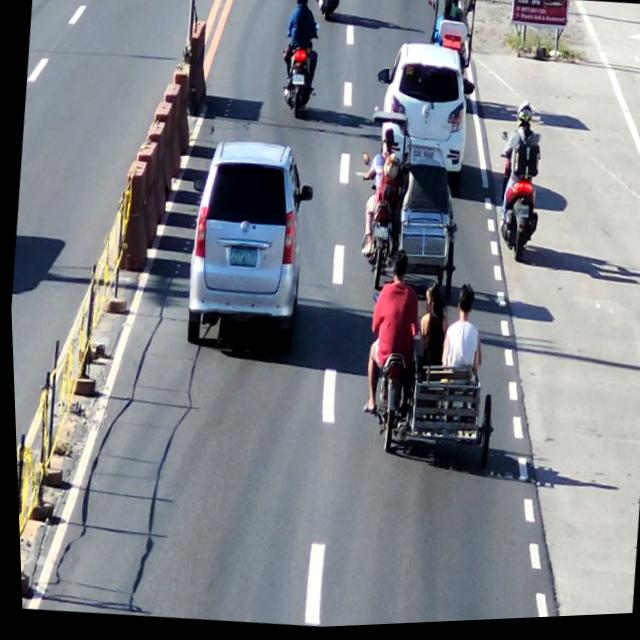Car: (175, 138, 318, 363), (367, 35, 476, 184)
License-Plate: (224, 241, 262, 283), (507, 207, 533, 227), (370, 225, 389, 246), (288, 74, 306, 94), (411, 150, 435, 165), (320, 0, 335, 2)
Motorcycle: (488, 100, 544, 272), (268, 0, 330, 132)
Tricycle: (351, 251, 511, 485), (345, 113, 478, 308)
